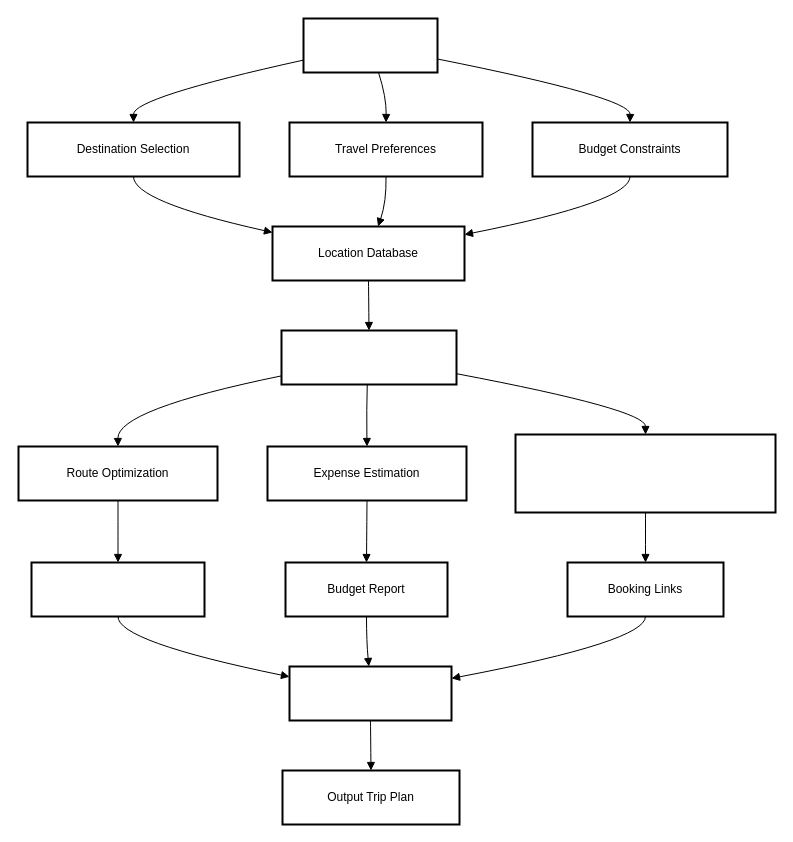
Image size: 793x842. Some labels were removed from this diagram. The centre of each missing label's shape, as x and y in pixels:
Accommodation Suggestions: the point at 645,473
AI Gemini Agent: the point at 368,357
Map Integration: the point at 117,589
User Input: the point at 370,45
User Interface: the point at 370,693
